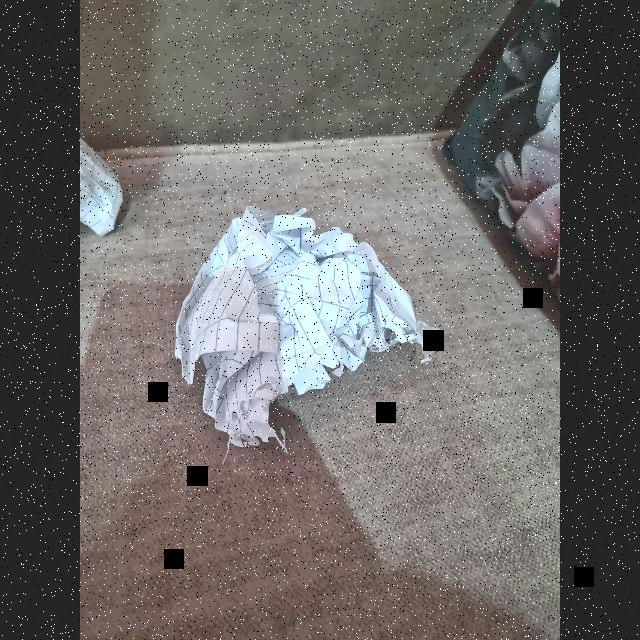scrap_paper: (170, 203, 436, 442)
